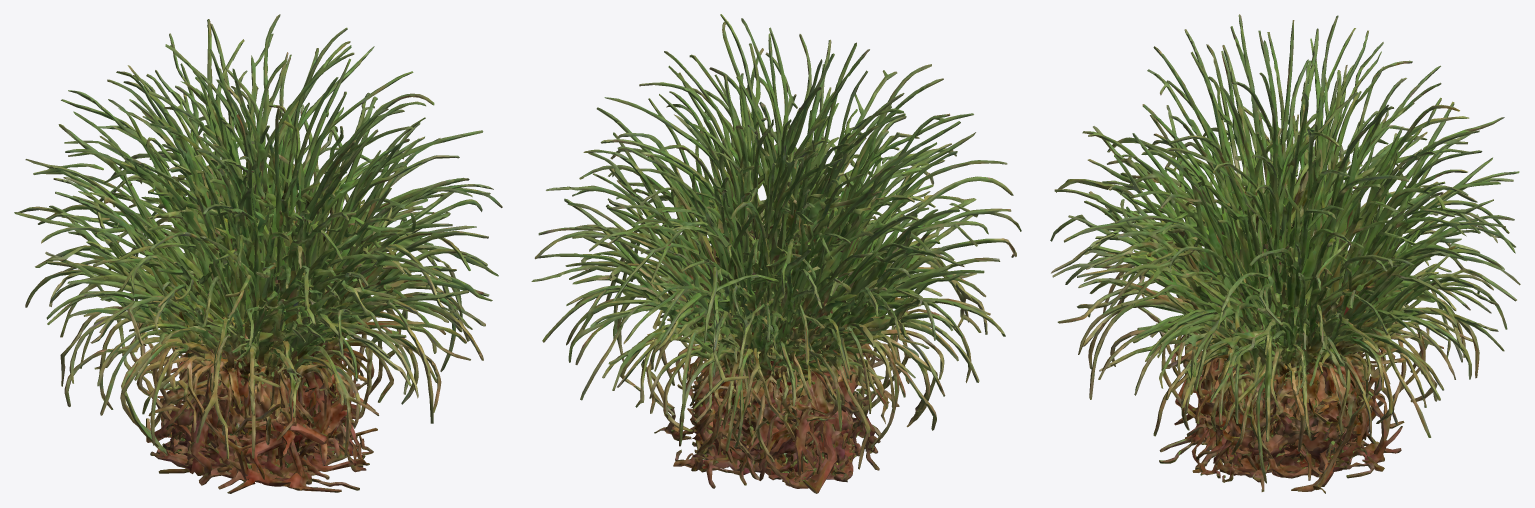
The model's file is sedge-tuft-v12.glb.
The picture shows the model from 3 angles, left to right: view 1: azimuth 30°, elevation 25°; view 2: azimuth 150°, elevation 25°; view 3: azimuth 270°, elevation 25°; orthographic projection.
Parts seen in each view (by area): view 1: geometry_0; view 2: geometry_0; view 3: geometry_0.
Boxes of the visible parts, x1=… form: geometry_0: x1=14, y1=14, x2=502, y2=493; geometry_0: x1=531, y1=14, x2=1021, y2=493; geometry_0: x1=1050, y1=14, x2=1520, y2=493.
Bounding box in the file's own units: 0.722 × 0.7 × 0.7276.
1 material, 1 textured.
